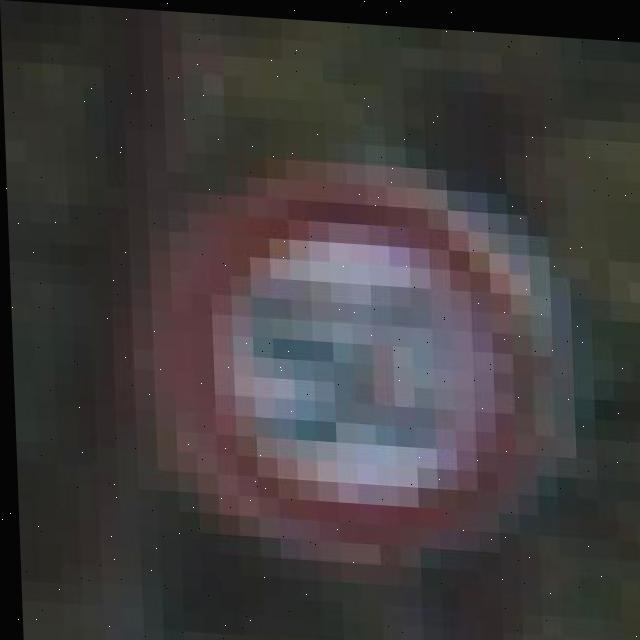Speed limit 50: (137, 140, 570, 563)
